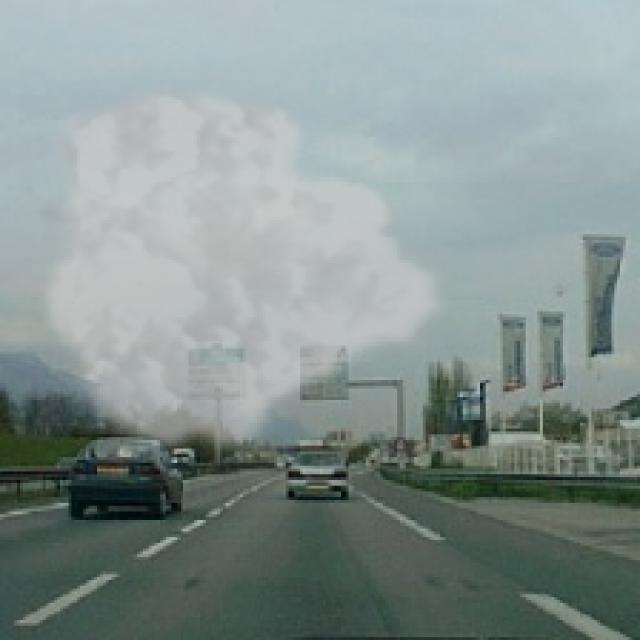Smoke: (37, 80, 452, 463)
